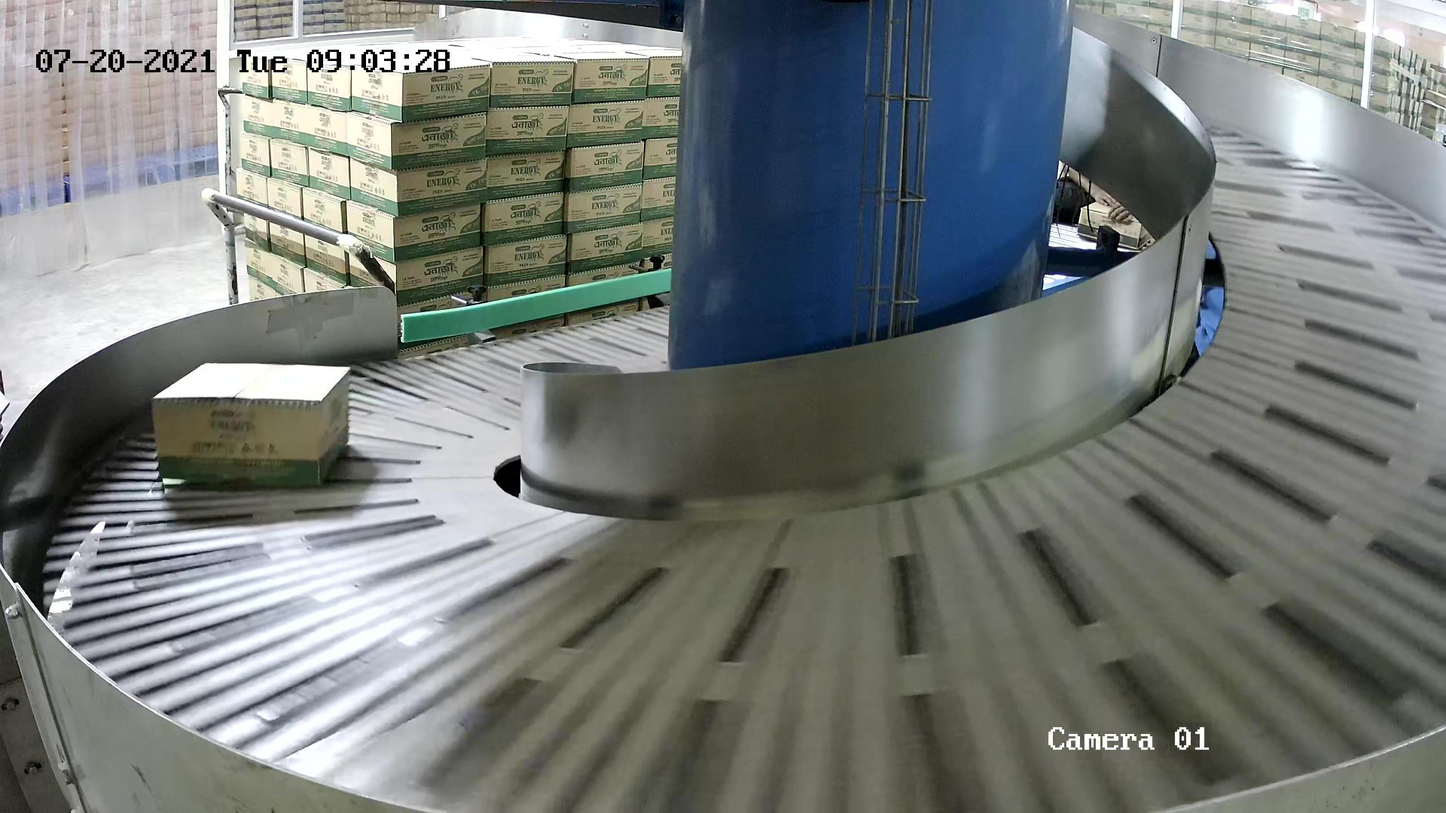Box: (152, 361, 352, 490)
